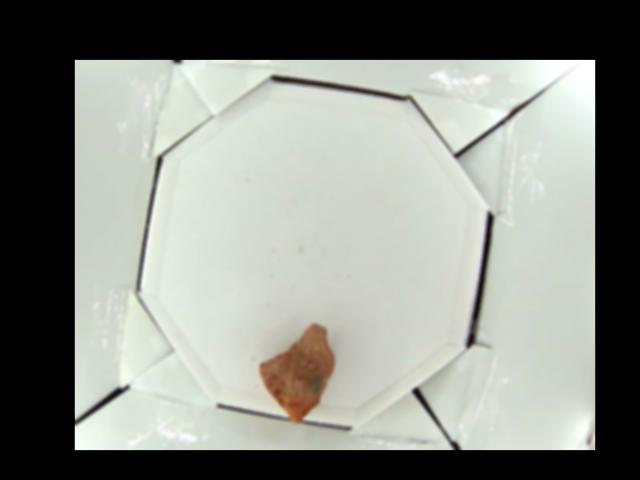Brisk: (257, 325, 335, 421)
